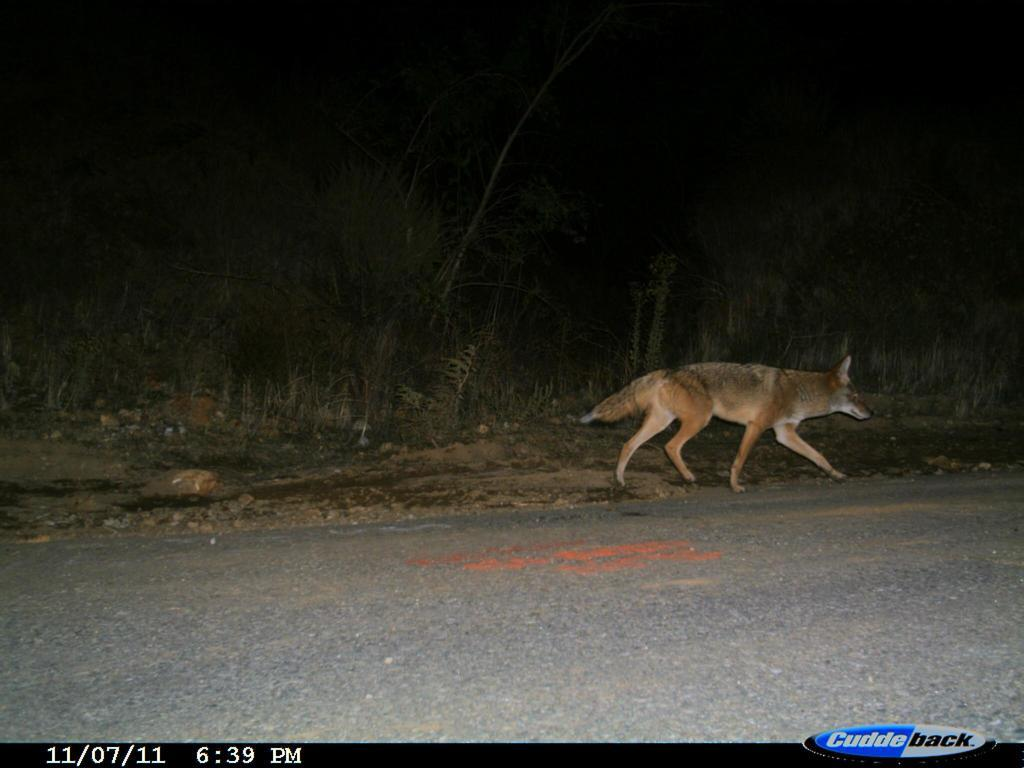coyote: (585, 345, 881, 491)
